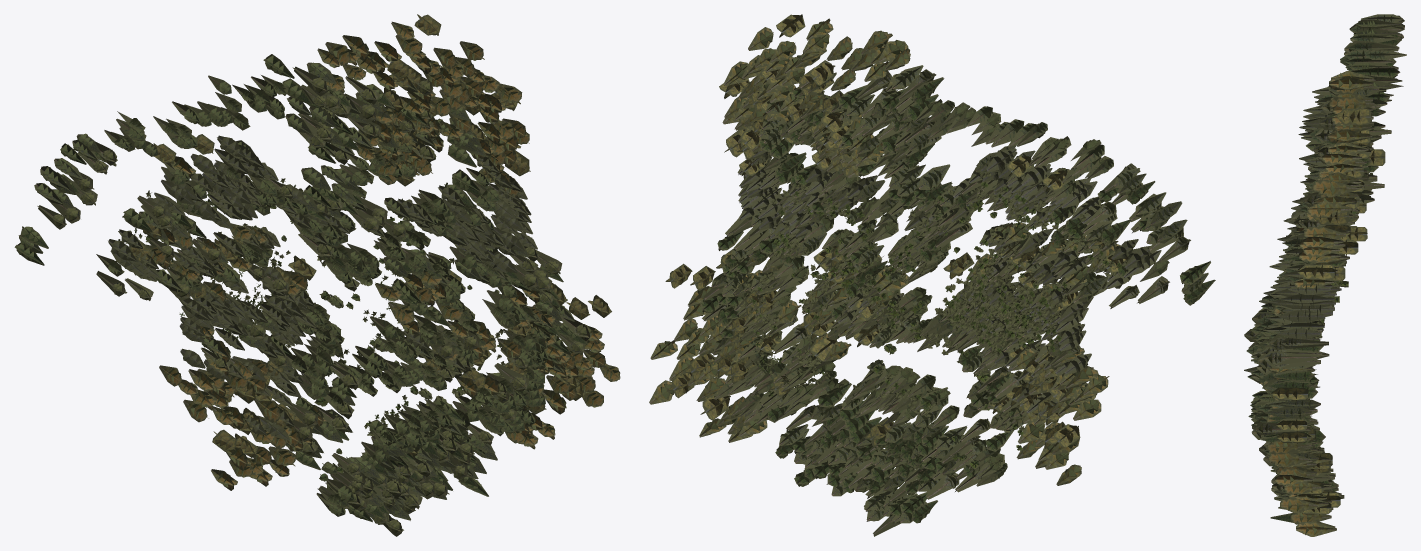
3 views of the same model, side by side, from view 1: azimuth 30°, elevation 25°; view 2: azimuth 150°, elevation 25°; view 3: azimuth 270°, elevation 25° (orthographic). The views are drawn at different scales.
Size of the model in its own units: 370 by 305 by 105.
1 material, 1 textured.
